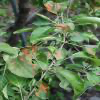Apple rust leaf: (5, 54, 41, 79), (55, 22, 81, 39), (42, 1, 71, 16), (33, 80, 54, 99), (21, 44, 40, 60), (52, 46, 68, 62), (83, 45, 98, 59), (52, 64, 66, 73)
